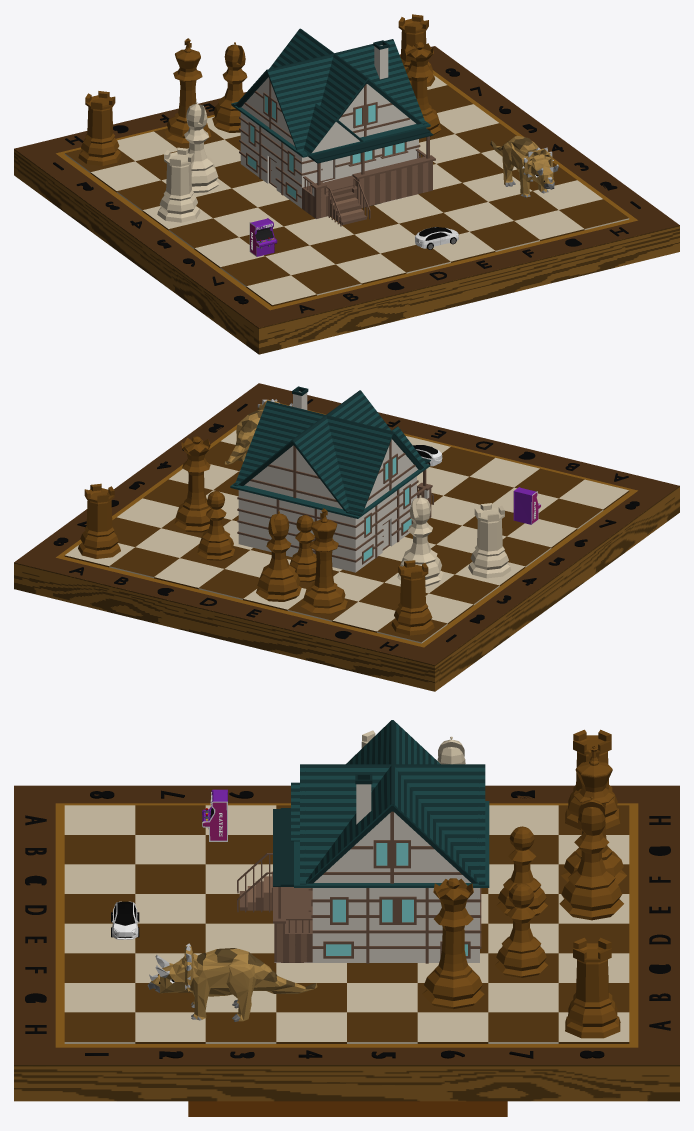
3 views of the same model, one above another, from view 1: azimuth 30°, elevation 25°; view 2: azimuth 150°, elevation 25°; view 3: azimuth 270°, elevation 25° (orthographic). The views are drawn at different scales.
Visible parts, largest first — view 1: Cube.002, Cube.793, ANIMAL_Triceratops, OBJRANDOM_ARCADE, VEHICLES_TESLA; view 2: Cube.002, Cube.793, ANIMAL_Triceratops, OBJRANDOM_ARCADE; view 3: Cube.002, Cube.793, ANIMAL_Triceratops, UNDERGROUND_ART_PIECE_VAN_GOGH, OBJRANDOM_ARCADE, VEHICLES_TESLA.
Boxes of the visible parts, x1,y1,x2,y2 form: Cube.002: [14, 14, 679, 354]; Cube.793: [231, 28, 435, 226]; ANIMAL_Triceratops: [490, 136, 558, 197]; OBJRANDOM_ARCADE: [249, 218, 277, 256]; VEHICLES_TESLA: [415, 227, 458, 249]; Cube.002: [14, 383, 679, 691]; Cube.793: [230, 386, 433, 572]; ANIMAL_Triceratops: [224, 399, 292, 464]; OBJRANDOM_ARCADE: [513, 487, 541, 524]; Cube.002: [14, 729, 679, 1101]; Cube.793: [237, 720, 489, 963]; ANIMAL_Triceratops: [147, 943, 317, 1021]; UNDERGROUND_ART_PIECE_VAN_GOGH: [188, 1101, 507, 1116]; OBJRANDOM_ARCADE: [202, 789, 227, 841]; VEHICLES_TESLA: [111, 901, 139, 939].
Bounding box in the file's own units: 3981 × 1610 × 4012.
Materials: 36 (4 with a texture image).
